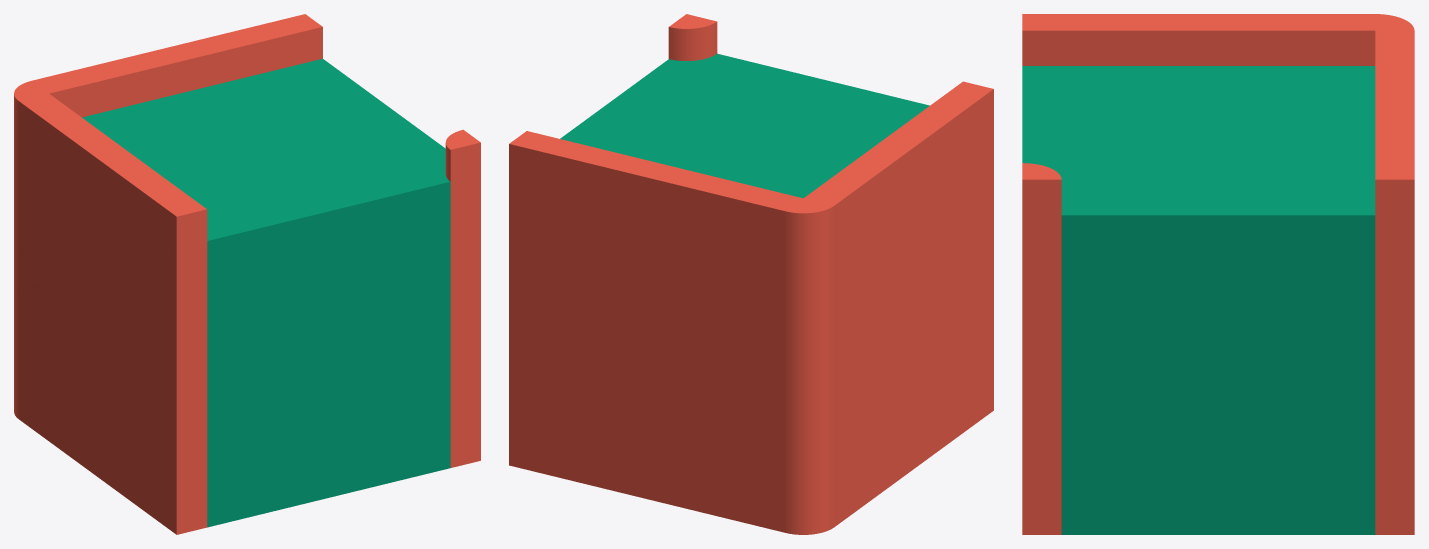
File: curved.glb
3 renders of one model, left to right at view 1: azimuth 30°, elevation 25°; view 2: azimuth 150°, elevation 25°; view 3: azimuth 270°, elevation 25°, orthographic. The views are drawn at different scales.
Visible parts, largest first — view 1: mergedBlocks(Clone); view 2: mergedBlocks(Clone); view 3: mergedBlocks(Clone).
Part boxes in pixels (x1,y1,x2,y2): mergedBlocks(Clone): (14,14,480,534); mergedBlocks(Clone): (509,14,993,534); mergedBlocks(Clone): (1022,14,1414,534).
Size of the model in its own units: 1 by 1 by 1.
